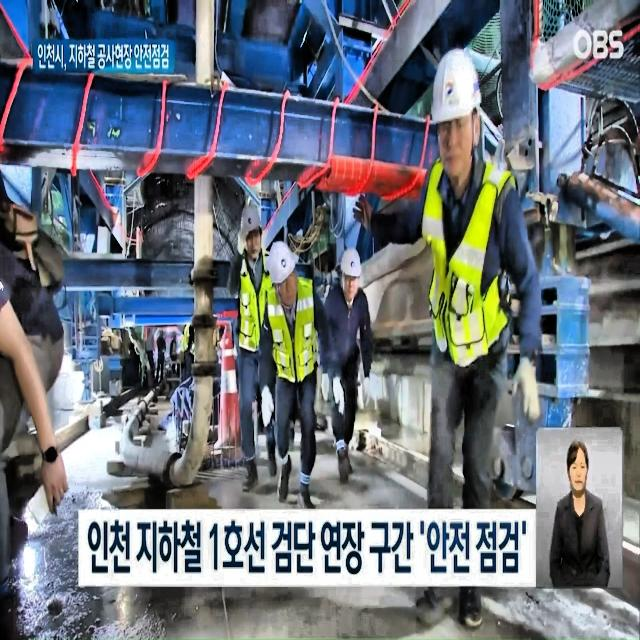safety_helmet: (426, 54, 488, 143), (271, 224, 299, 288), (233, 203, 270, 245), (338, 245, 372, 282)
safety_jacket: (412, 174, 534, 368), (220, 263, 292, 380), (260, 288, 328, 402)
